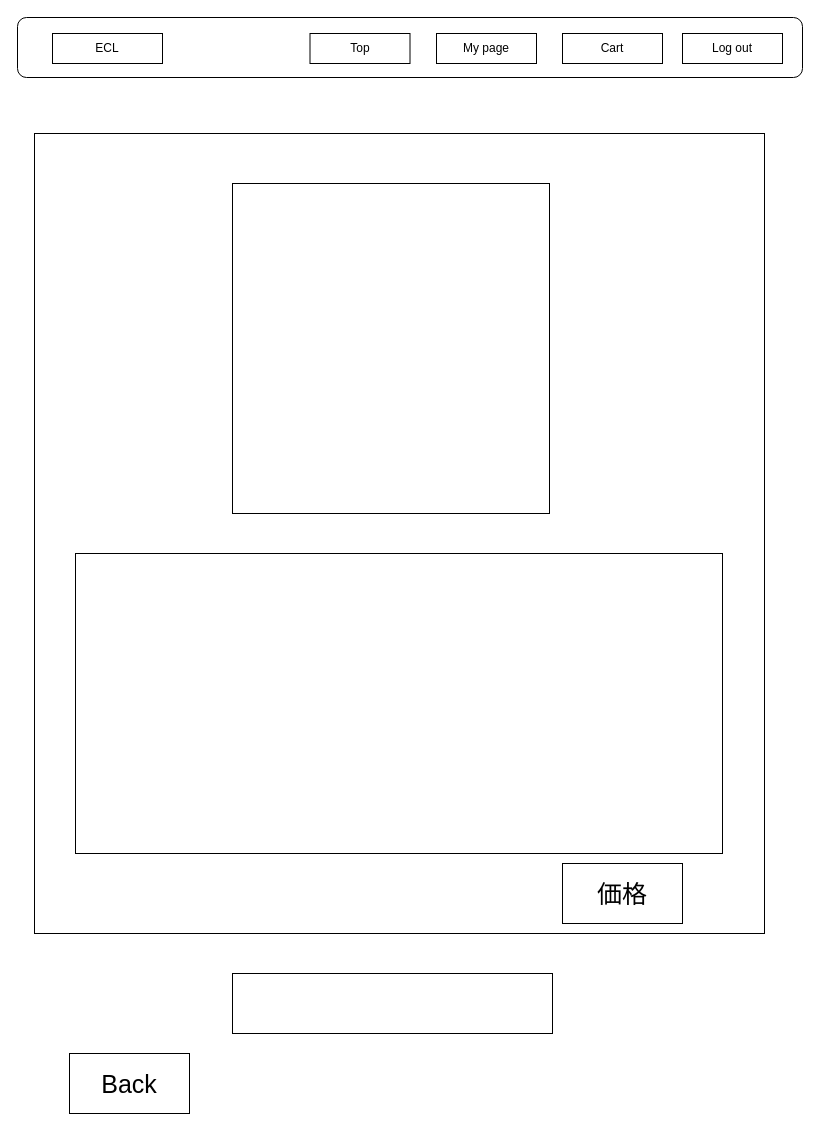
Some shapes in this 820 by 1131 pixel diagram are drawn without their labels. The shapes that lost their labels are listed below. From the top down, each one's centre as x and y in pixels, then its label:
[391,348]: ジャケット画像
[398,703]: ・シングル/アルバム名 ・アーティスト名 ・レーベル名 ・ジャンル ・シングル/アルバム内の曲名 ・在庫数 ・ステータス
[392,1003]: カートに追加する
